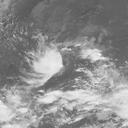cyclone: (31, 44, 64, 74)
